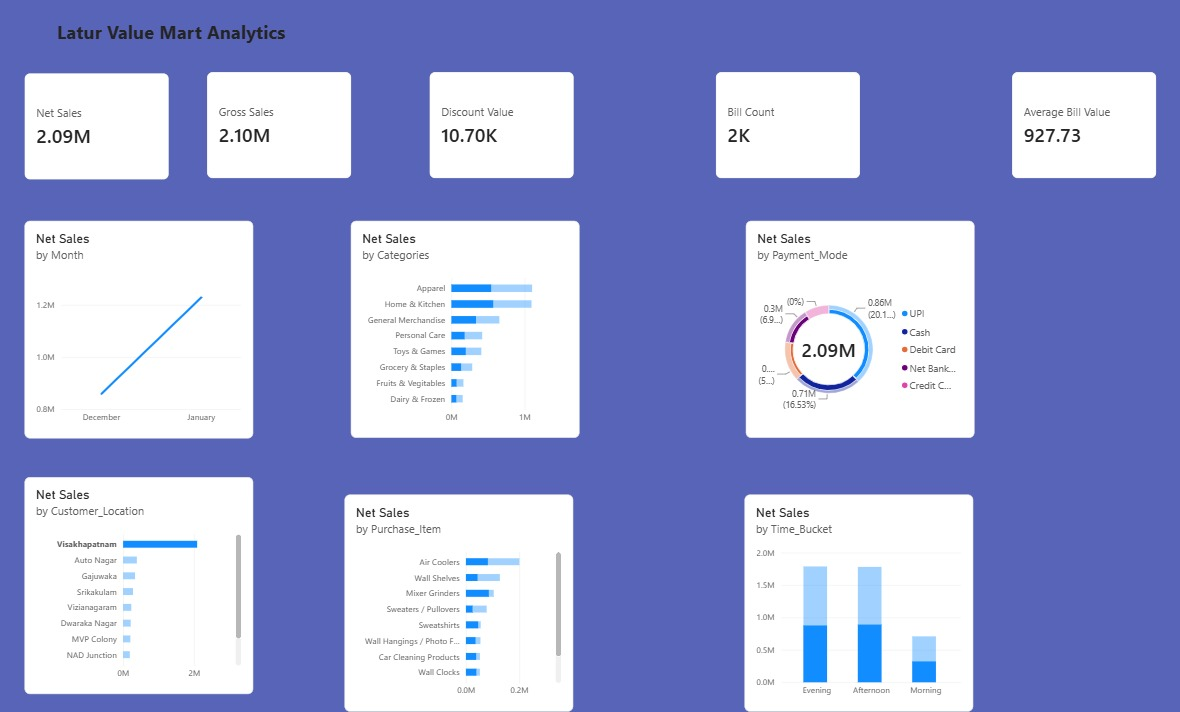

The page's visual inventory and layout, read from the dashboard file:
{"tool":"powerbi","page":{"name":"Sales Overview and Sales Details","canvas":[1920,1080],"ordinal":0},"visuals":[{"type":"cardVisual","fields":{"Data":["Categories_List.Net Sales"]},"box":[0,144.8,209,154],"z":0},{"type":"cardVisual","fields":{"Data":["Categories_List.Gross Sales"]},"box":[304,144.8,209,154],"z":1},{"type":"cardVisual","fields":{"Data":["Categories_List.Discount Value"]},"box":[626.1,144.8,209,154],"z":2},{"type":"cardVisual","fields":{"Data":["Categories_List.Bill Count"]},"box":[1040.6,144.8,209,154.4],"z":3},{"type":"cardVisual","fields":{"Data":["Categories_List.Average Bill Value"]},"box":[1469.4,144.8,209,154],"z":4},{"type":"lineChart","fields":{"Category":["Purchase_Data.Date_Purchase.Variation.Date Hierarchy.Year","Purchase_Data.Date_Purchase.Variation.Date Hierarchy.Month"],"Y":["Categories_List.Net Sales"]},"box":[0,360.1,331,314.9],"z":5},{"type":"clusteredBarChart","fields":{"Category":["Purchase_Data.Categories"],"Y":["Categories_List.Net Sales"]},"box":[512.1,360.1,331,314],"z":6},{"type":"donutChart","fields":{"Category":["Purchase_Data.Payment_Mode"],"Y":["Categories_List.Net Sales"]},"box":[1084,360.1,331,314],"z":7},{"type":"clusteredBarChart","fields":{"Category":["Table1.Customer_Location"],"Y":["Categories_List.Net Sales"]},"box":[0,736.5,331,314],"z":8},{"type":"clusteredBarChart","fields":{"Category":["Purchase_Data.Purchase_Item"],"Y":["Categories_List.Net Sales"]},"box":[503.1,756.4,331,314],"z":9},{"type":"clusteredColumnChart","fields":{"Category":["Purchase_Data.Time_Bucket"],"Y":["Categories_List.Net Sales"]},"box":[1082.2,756.4,331,314],"z":10},{"type":"textbox","box":[86.4,30.9,642.2,129.7],"z":11}]}

Visuals, with their boxes on the page's 1920x1080 design canvas (x1, y1, x2, y2). These are canvas units, not pixel positions in the 1180x712 screenshot, which may show the page scaled, cropped or inside an application window:
cardVisual - Categories_List.Net Sales: [0,145,209,299]
cardVisual - Categories_List.Gross Sales: [304,145,513,299]
cardVisual - Categories_List.Discount Value: [626,145,835,299]
cardVisual - Categories_List.Bill Count: [1041,145,1250,299]
cardVisual - Categories_List.Average Bill Value: [1469,145,1678,299]
lineChart - Purchase_Data.Date_Purchase.Variation.Date Hierarchy.Year x Purchase_Data.Date_Purchase.Variation.Date Hierarchy.Month: [0,360,331,675]
clusteredBarChart - Purchase_Data.Categories x Categories_List.Net Sales: [512,360,843,674]
donutChart - Purchase_Data.Payment_Mode x Categories_List.Net Sales: [1084,360,1415,674]
clusteredBarChart - Table1.Customer_Location x Categories_List.Net Sales: [0,736,331,1050]
clusteredBarChart - Purchase_Data.Purchase_Item x Categories_List.Net Sales: [503,756,834,1070]
clusteredColumnChart - Purchase_Data.Time_Bucket x Categories_List.Net Sales: [1082,756,1413,1070]
textbox: [86,31,729,161]
